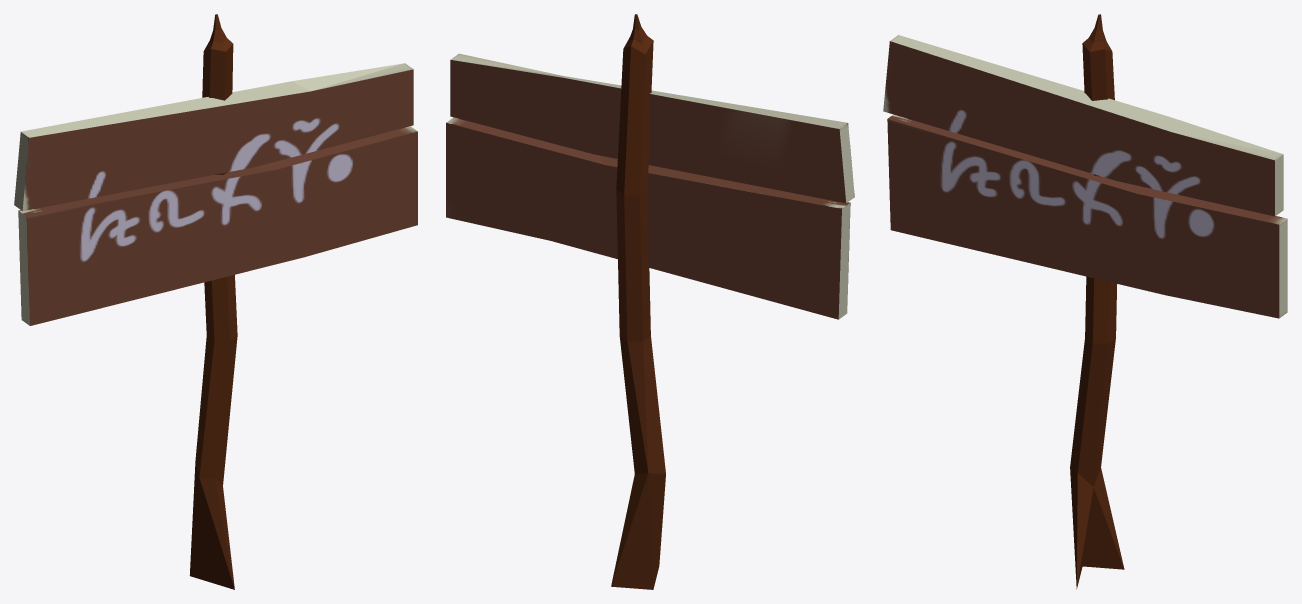
The model's file is Plaque.fbx.
3 views of the same model, side by side, from view 1: azimuth 30°, elevation 25°; view 2: azimuth 150°, elevation 25°; view 3: azimuth 330°, elevation 25° (orthographic).
Parts seen in each view (by area): view 1: Plaque; view 2: Plaque; view 3: Plaque.
Part boxes in pixels (x1,y1,x2,y2): Plaque: (14, 14, 417, 589); Plaque: (446, 14, 854, 589); Plaque: (883, 14, 1287, 589).
Size of the model in its own units: 342 by 462 by 48.92.
